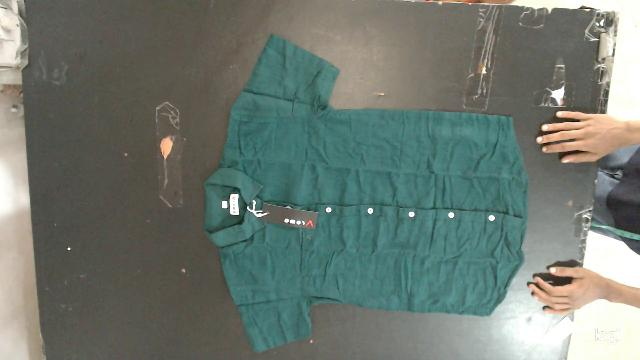new-garment: (205, 35, 529, 351)
